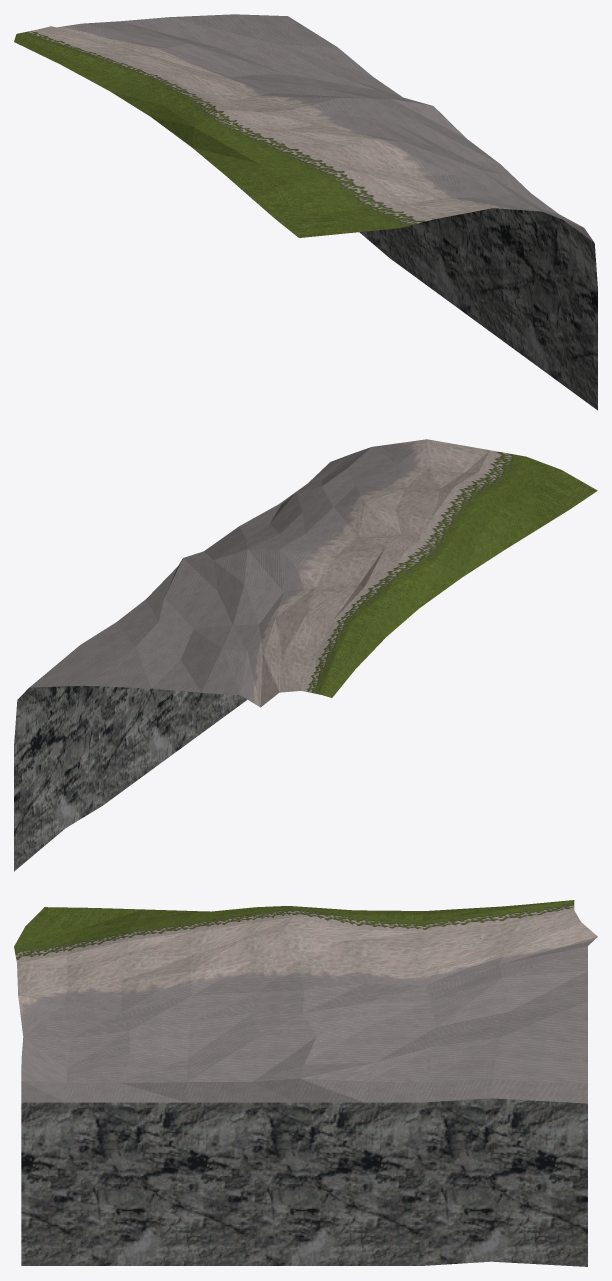
File: cuntwland22_sfs.obj
3 renders of one model, top to bottom at view 1: azimuth 30°, elevation 25°; view 2: azimuth 150°, elevation 25°; view 3: azimuth 270°, elevation 25°, orthographic. The views are drawn at different scales.
Parts seen in each view (by area): view 1: cuntwland22_SFS; view 2: cuntwland22_SFS; view 3: cuntwland22_SFS.
Boxes of the visible parts, x1,y1,x2,y2 form: cuntwland22_SFS: [14, 14, 597, 410]; cuntwland22_SFS: [14, 439, 597, 871]; cuntwland22_SFS: [14, 900, 597, 1266].
Bounding box in the file's own units: 115 × 92.62 × 201.
Materials: 6 (6 with a texture image).
